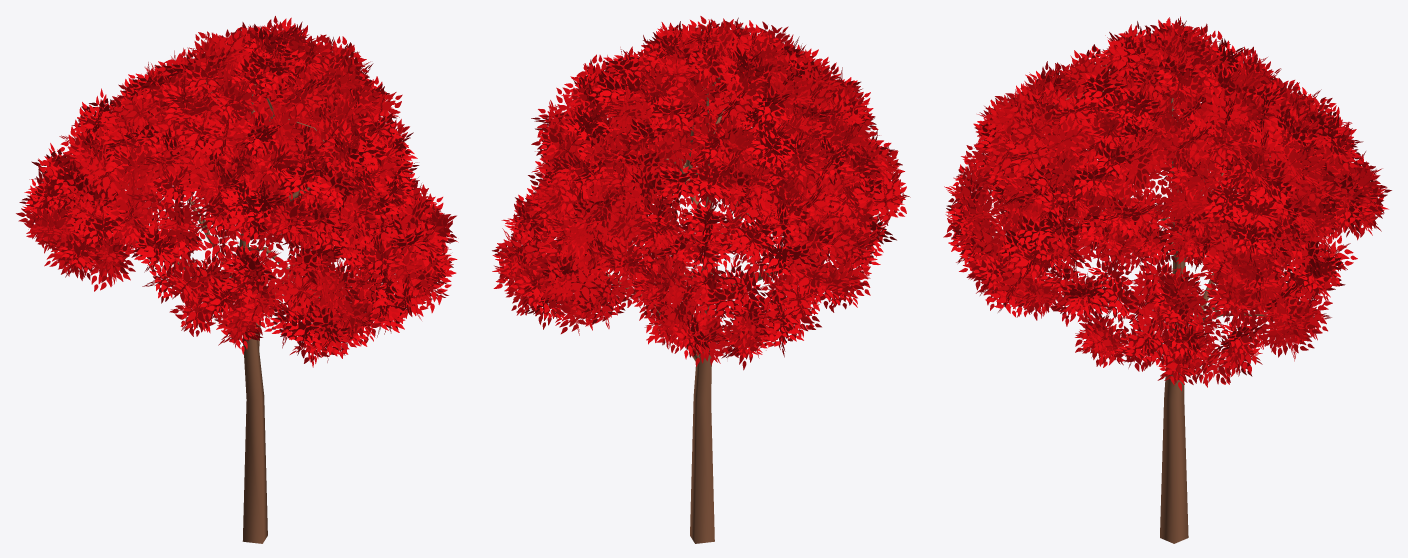
File: testTree.fbx
3 renders of one model, left to right at view 1: azimuth 30°, elevation 25°; view 2: azimuth 150°, elevation 25°; view 3: azimuth 270°, elevation 25°, orthographic.
Parts seen in each view (by area): view 1: leaves, tree; view 2: leaves, tree; view 3: leaves, tree.
Boxes of the visible parts, box(x1,y1,x2,y2) form: leaves: box(16, 16, 458, 367); tree: box(136, 76, 332, 543); leaves: box(492, 16, 910, 370); tree: box(607, 75, 775, 543); leaves: box(943, 16, 1391, 390); tree: box(1000, 64, 1277, 543).
Size of the model in its own units: 471 by 624 by 499.
